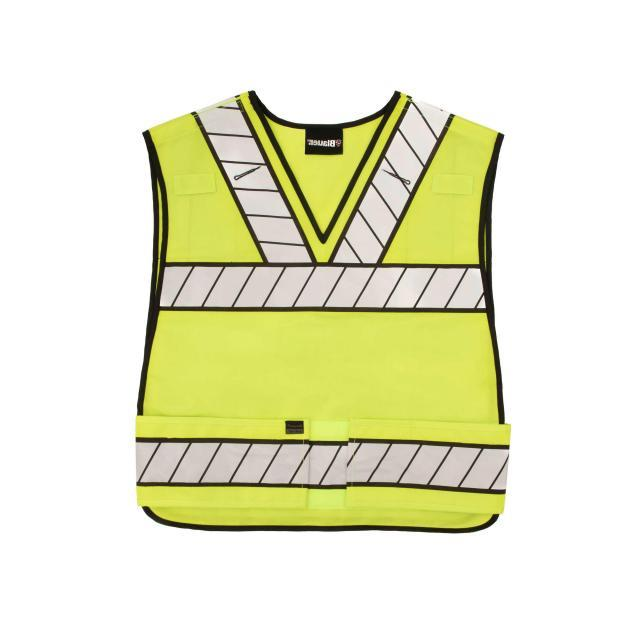reflective_jacket: (80, 75, 544, 548)
